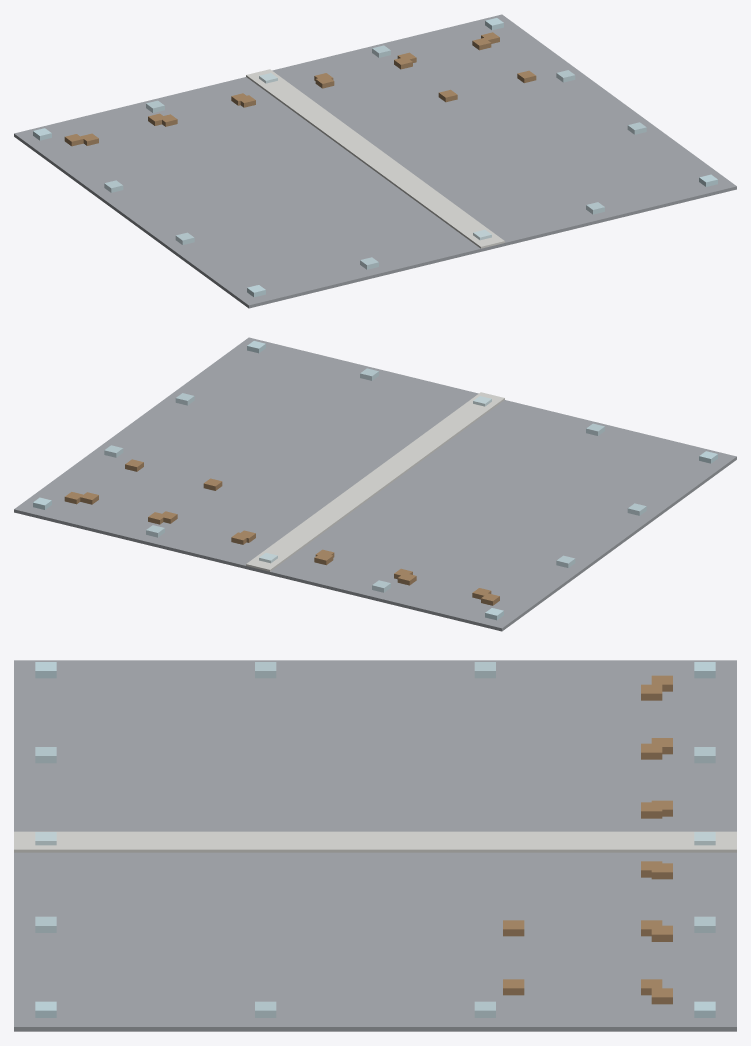
Rendered from open_space.glb.
3 renders of one model, top to bottom at view 1: azimuth 30°, elevation 25°; view 2: azimuth 150°, elevation 25°; view 3: azimuth 270°, elevation 25°, orthographic. The views are drawn at different scales.
Visible parts, largest first — view 1: open_space_site_001_paving, open_space_site_001_path; view 2: open_space_site_001_paving, open_space_site_001_path; view 3: open_space_site_001_paving, open_space_site_001_path.
Boxes of the visible parts, x1=… form: open_space_site_001_paving: x1=14, y1=14, x2=736, y2=308; open_space_site_001_path: x1=246, y1=69, x2=504, y2=248; open_space_site_001_paving: x1=14, y1=337, x2=736, y2=631; open_space_site_001_path: x1=246, y1=392, x2=504, y2=571; open_space_site_001_paving: x1=14, y1=660, x2=736, y2=1031; open_space_site_001_path: x1=14, y1=831, x2=736, y2=852.
Size of the model in its own units: 40.69 by 0.62 by 33.91.
